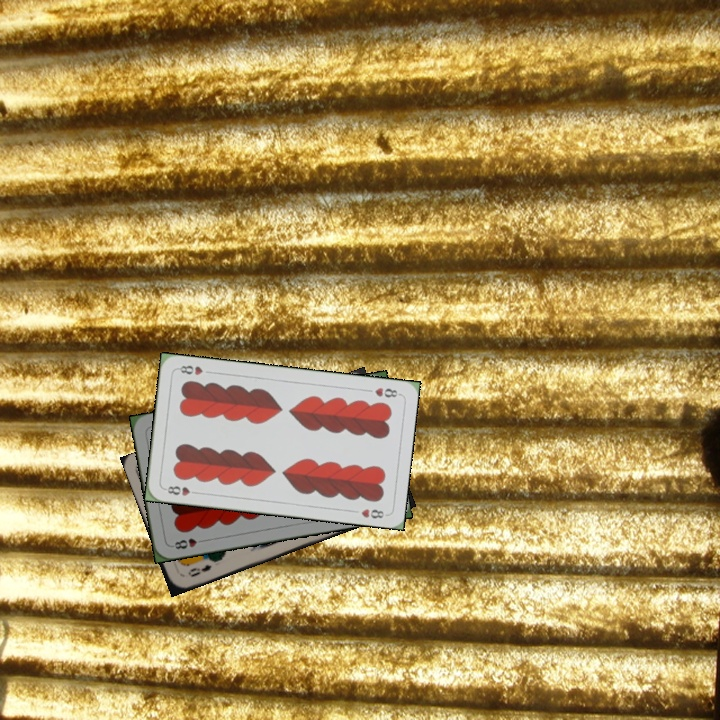EO: (184, 561, 214, 579)
H8: (168, 534, 208, 552), (161, 482, 201, 498), (371, 383, 402, 400)
